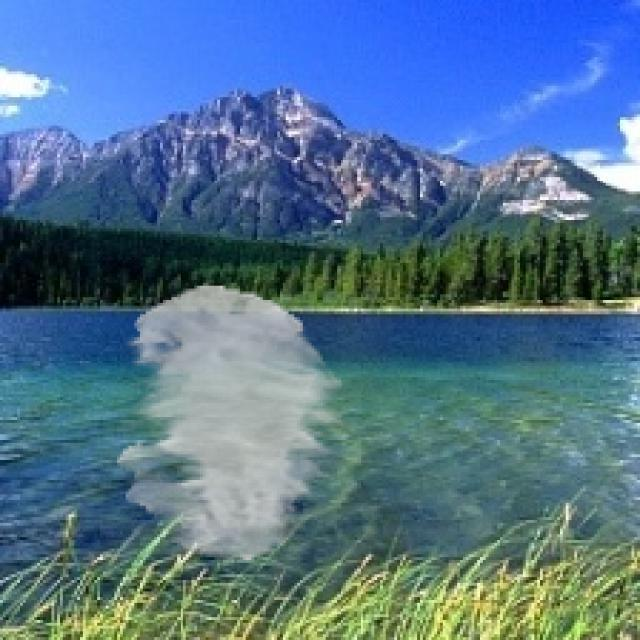Smoke: (117, 286, 346, 560)
